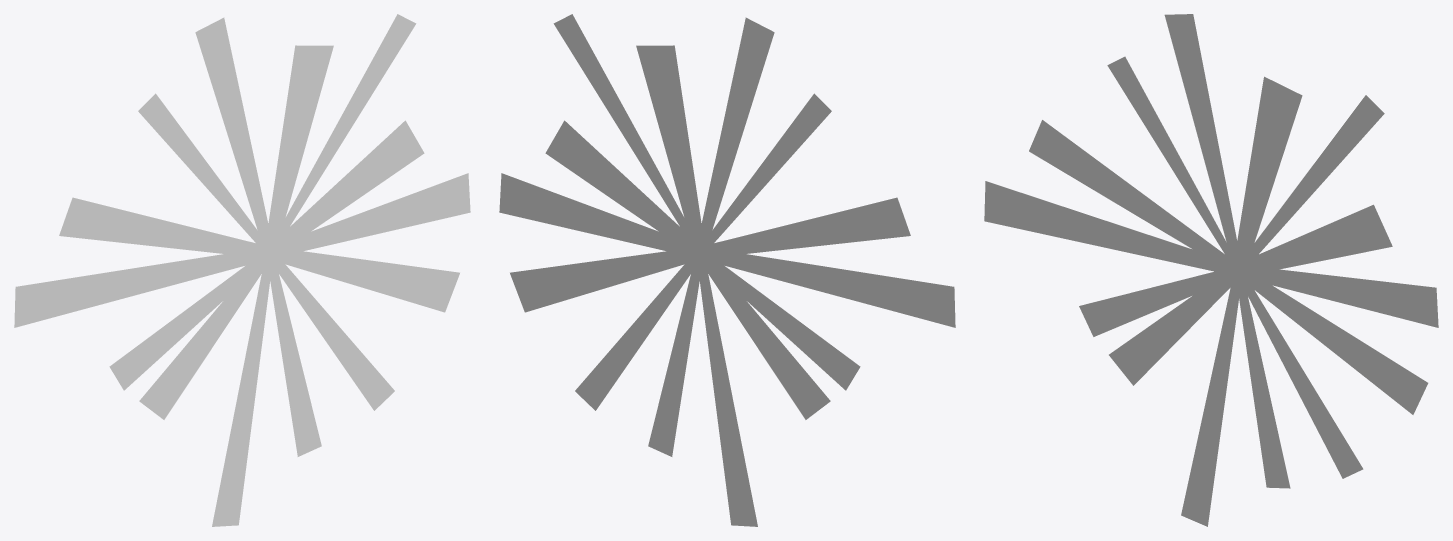
The model's file is GodRays.fbx.
The picture shows the model from 3 angles, left to right: view 1: azimuth 30°, elevation 25°; view 2: azimuth 150°, elevation 25°; view 3: azimuth 330°, elevation 25°; orthographic projection.
Visible parts, largest first — view 1: GodRays; view 2: GodRays; view 3: GodRays.
Part boxes in pixels (<box>): GodRays: <box>14,14,470,526</box>; GodRays: <box>499,14,955,526</box>; GodRays: <box>984,14,1438,526</box>.
Size of the model in its own units: 1.77 by 1.9 by 2.26e-07.
Materials: 1 (1 with a texture image).
